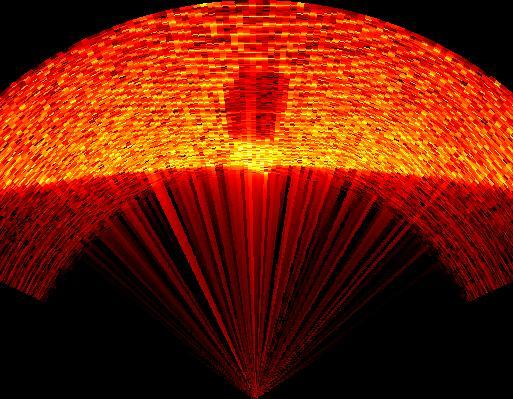box_crate: (219, 58, 297, 177)
